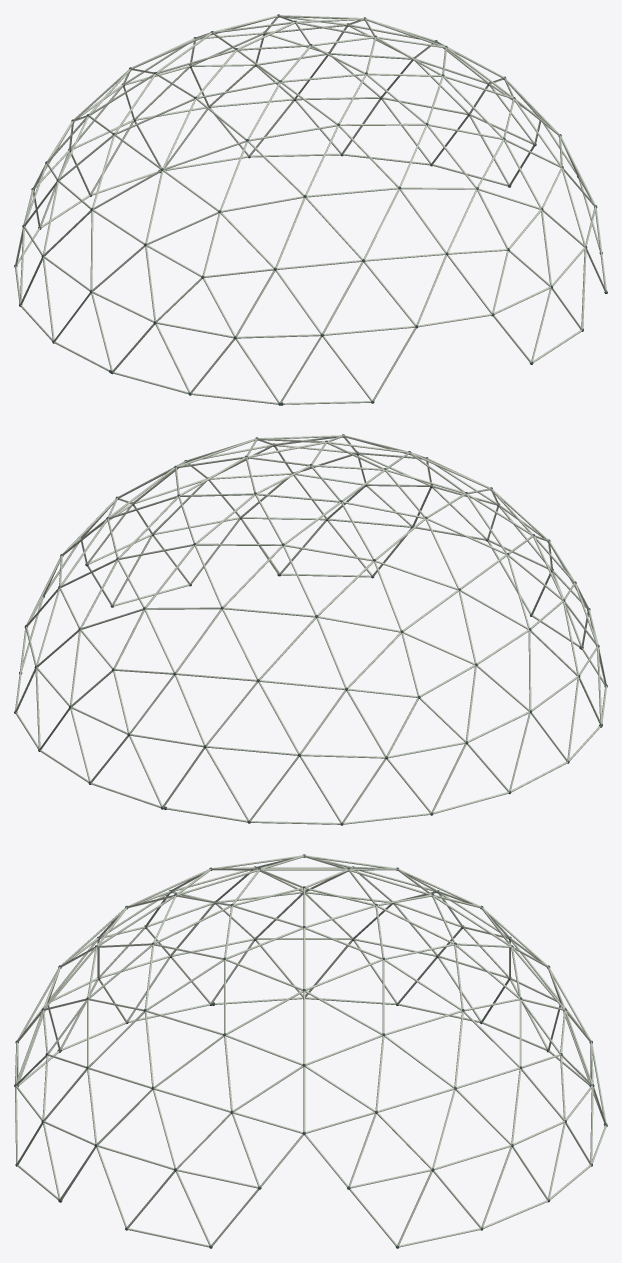
Rendered from SM_MP_Dome_Ribs.fbx.
The picture shows the model from 3 angles, top to bottom: view 1: azimuth 30°, elevation 25°; view 2: azimuth 150°, elevation 25°; view 3: azimuth 270°, elevation 25°; orthographic projection.
Visible parts, largest first — view 1: SM_MP_Dome_Ribs; view 2: SM_MP_Dome_Ribs; view 3: SM_MP_Dome_Ribs.
Part boxes in pixels (x1,y1,x2,y2): SM_MP_Dome_Ribs: [14, 14, 607, 405]; SM_MP_Dome_Ribs: [14, 434, 607, 825]; SM_MP_Dome_Ribs: [14, 854, 607, 1248].
Size of the model in its own units: 3742 by 3739 by 1674.
1 material, 1 textured.
